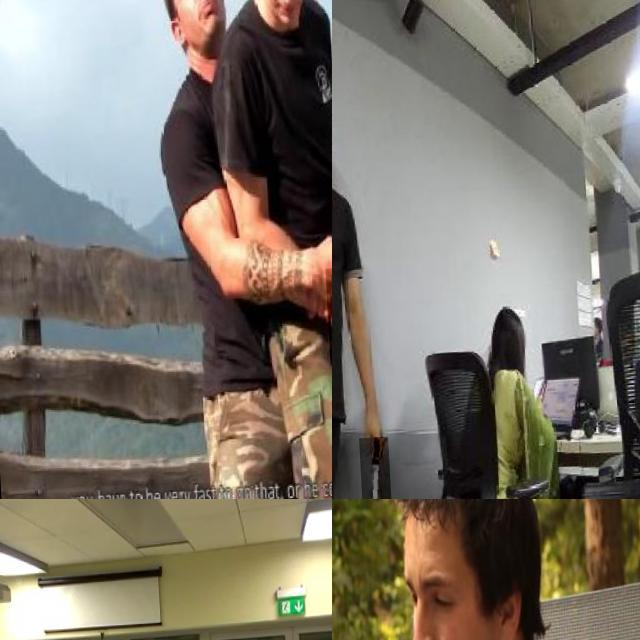-: (353, 440, 384, 499)
